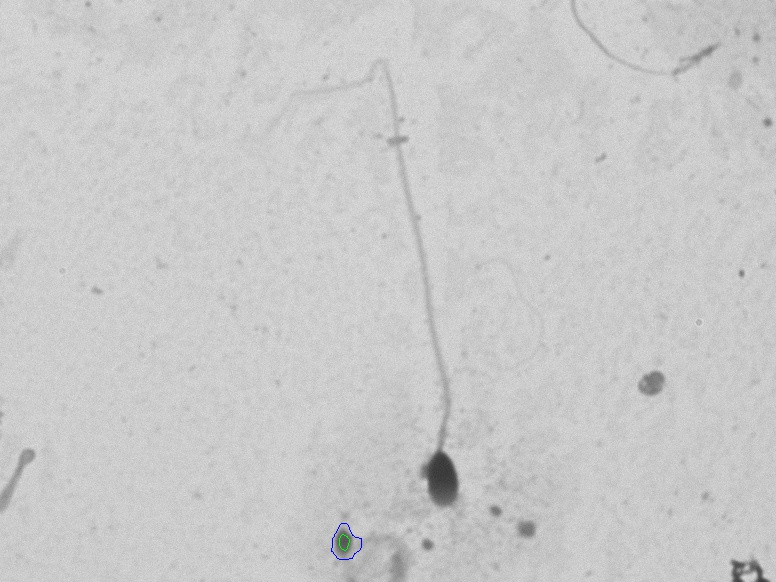Normal: (272, 65, 535, 527)
